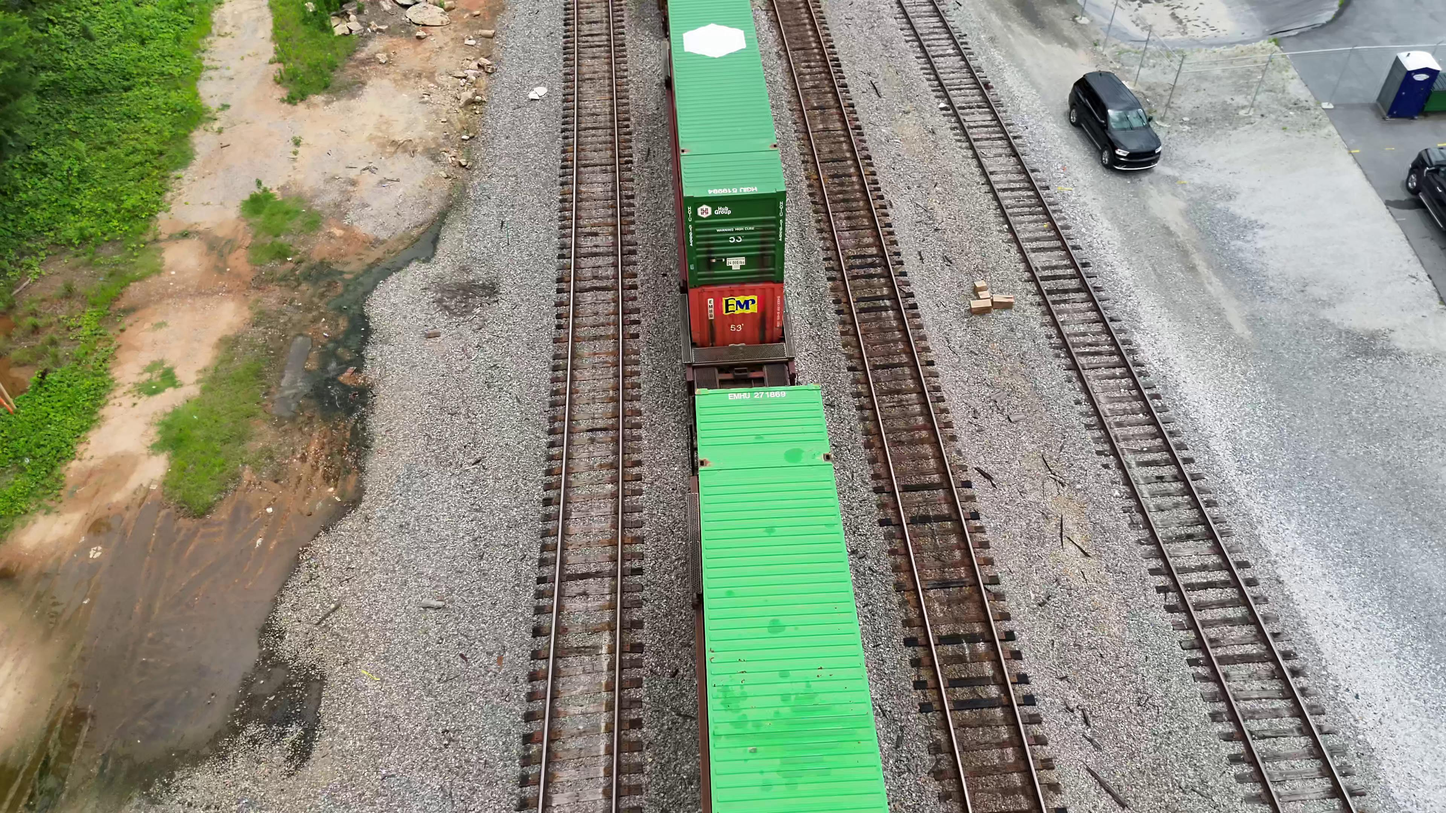box: (970, 299, 992, 315), (992, 294, 1015, 309), (974, 280, 987, 296), (977, 291, 991, 300)
